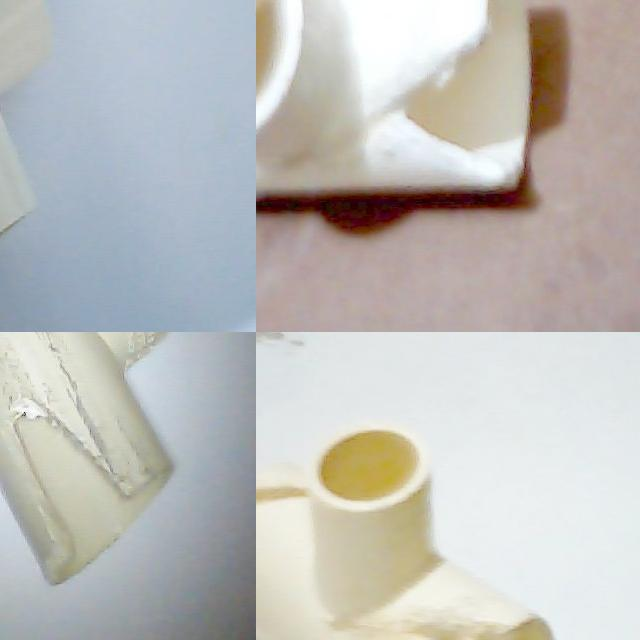Defective: (407, 26, 518, 157), (15, 418, 120, 542), (346, 603, 498, 640), (256, 459, 306, 542)
T Joint: (256, 416, 567, 640), (256, 0, 530, 200)
